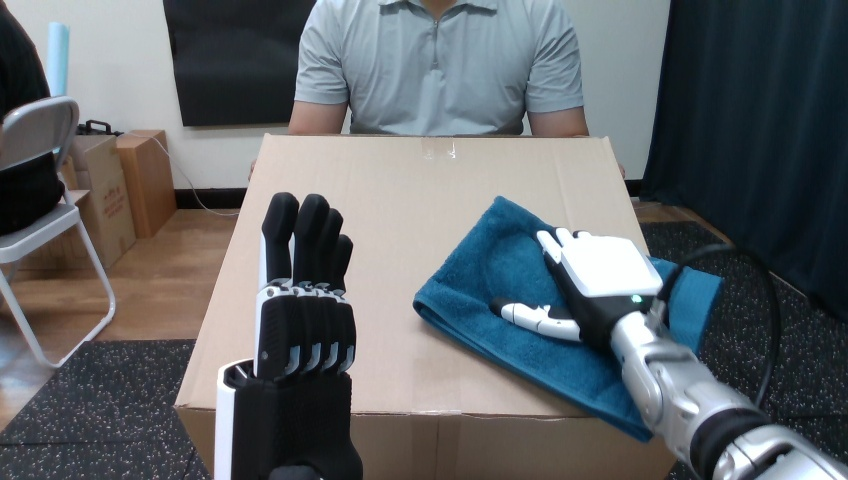left robot hand: (214, 192, 361, 478), (762, 278, 847, 463), (681, 254, 770, 398)
